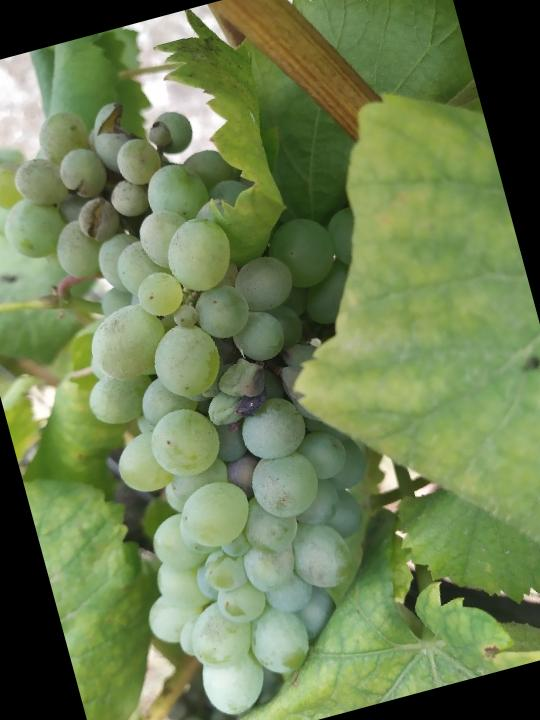grape: (0, 48, 449, 720)
